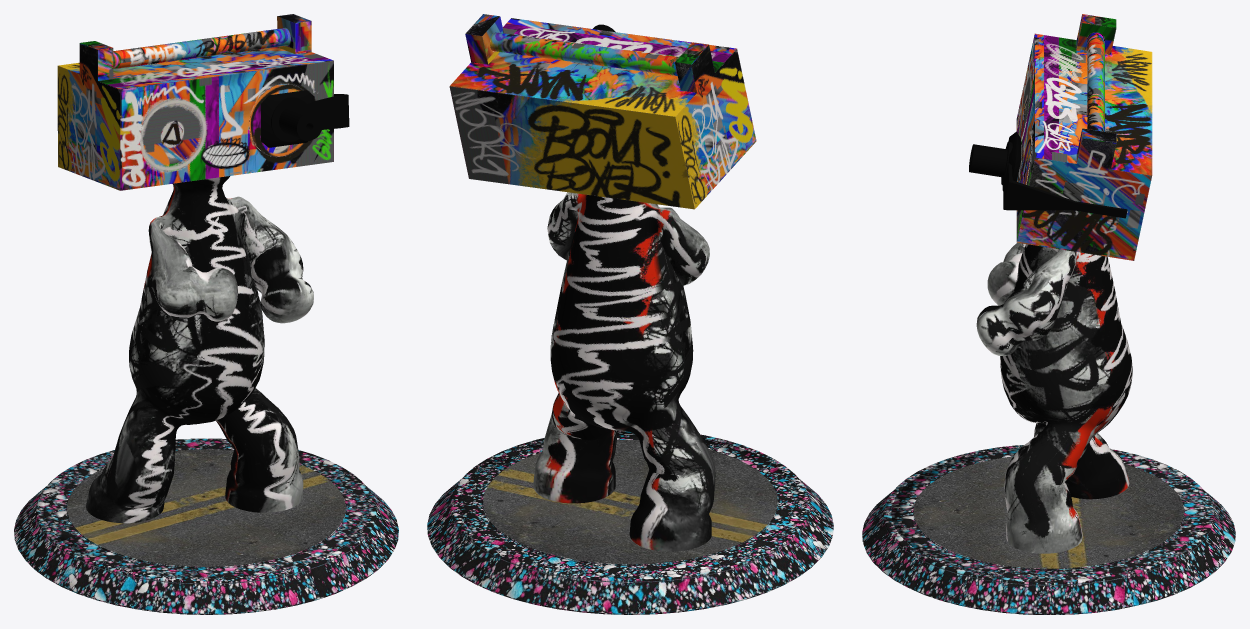
The picture shows the model from 3 angles, left to right: view 1: azimuth 30°, elevation 25°; view 2: azimuth 150°, elevation 25°; view 3: azimuth 270°, elevation 25°; orthographic projection. The views are drawn at different scales.
Visible parts, largest first — view 1: BBody; view 2: BBody; view 3: BBody.
Part boxes in pixels (box(x1,y1,x2,y2)): BBody: box(14, 14, 398, 614); BBody: box(427, 14, 833, 614); BBody: box(862, 14, 1235, 614).
Size of the model in its own units: 1.45 by 2.05 by 1.45.
5 materials, 4 textured.
